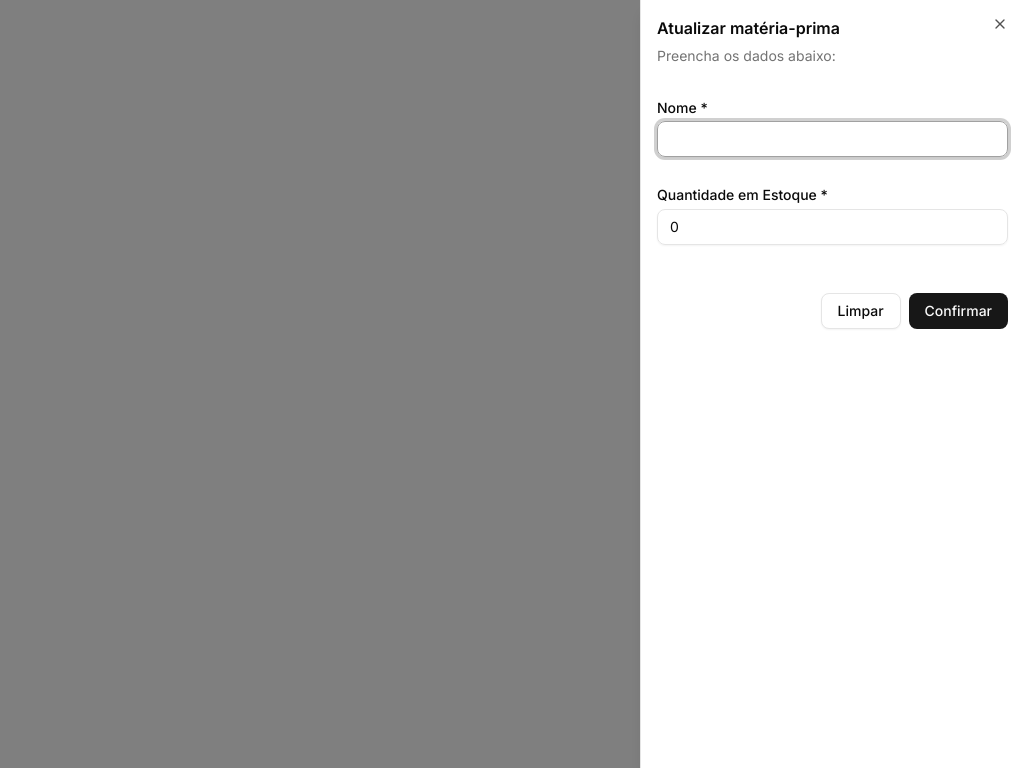
RawMaterialUpdate › exibe erros ao submeter sem preencher campos obrigatórios
The width and height of the screenshot is (1024, 768).
Step 1. Click the button "Confirmar" → (958, 310), box [909,292,1008,328]
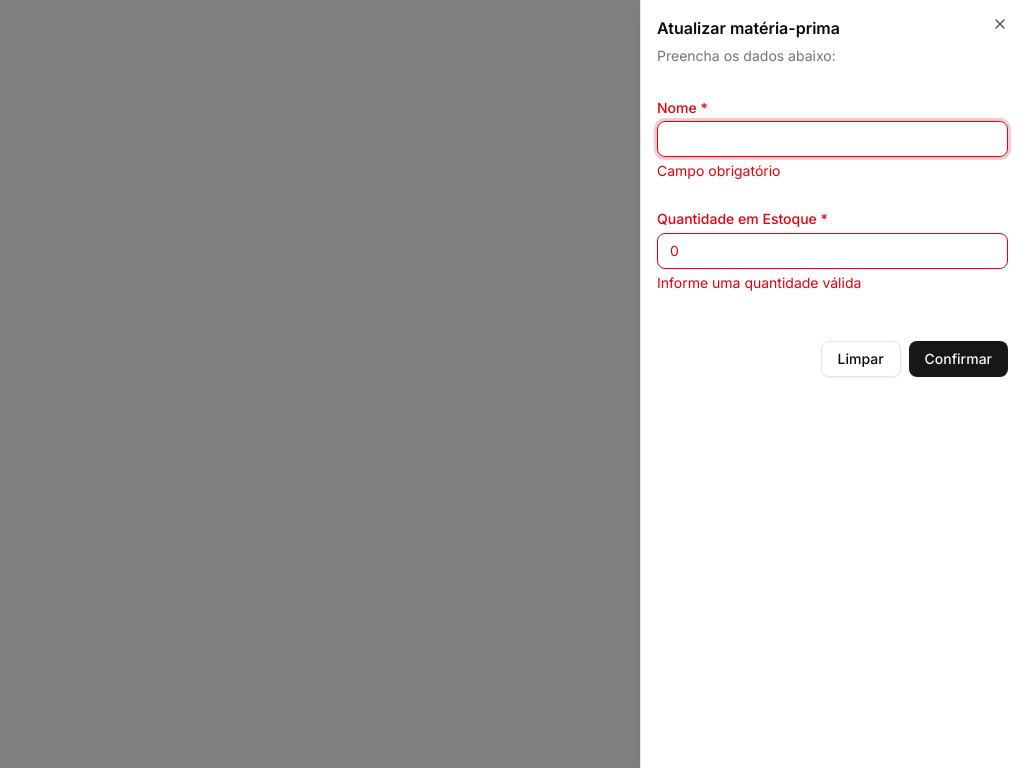
Expected: the text "Campo obrigatório" is shown, [657,162,780,179]
Expected: the text "Informe uma quantidade válida" is shown, [657,274,861,290]
